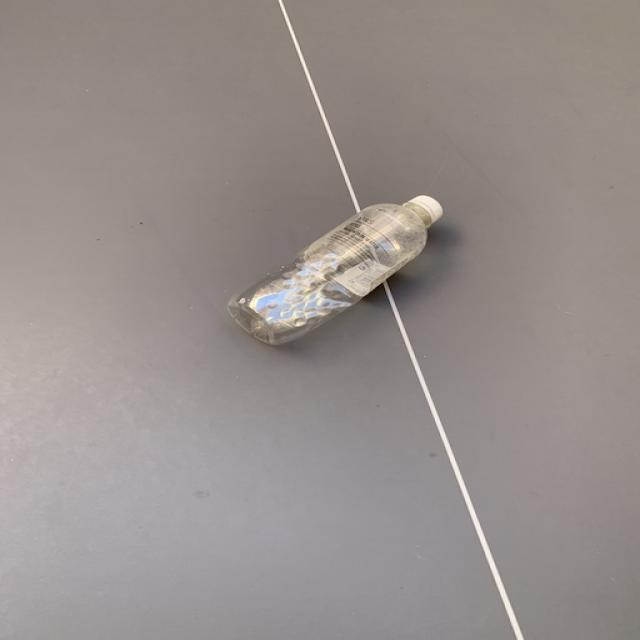Waste: (229, 196, 444, 344)
